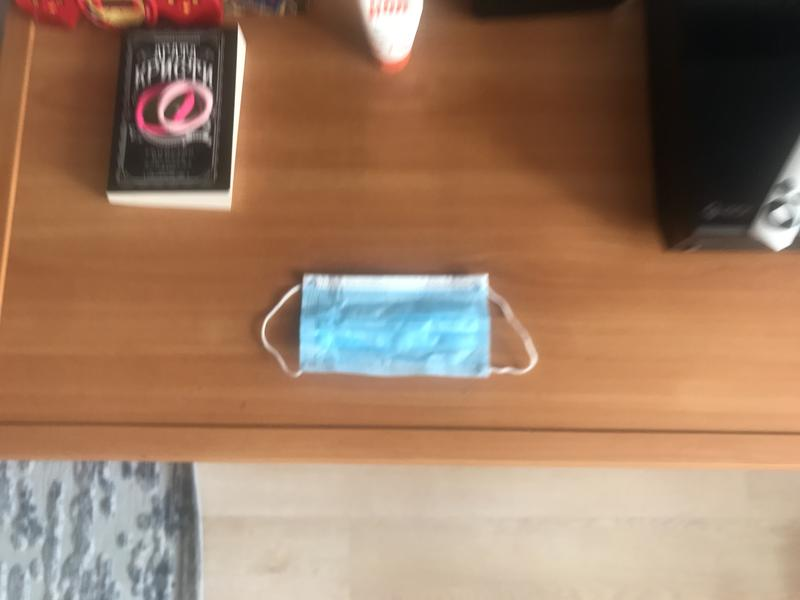medical_mask: (261, 273, 539, 380)
